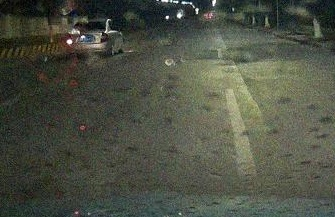L_light: (66, 35, 73, 45)
R_light: (101, 32, 108, 43)
T_light: (87, 22, 93, 24)
night-left: (65, 19, 110, 57)
